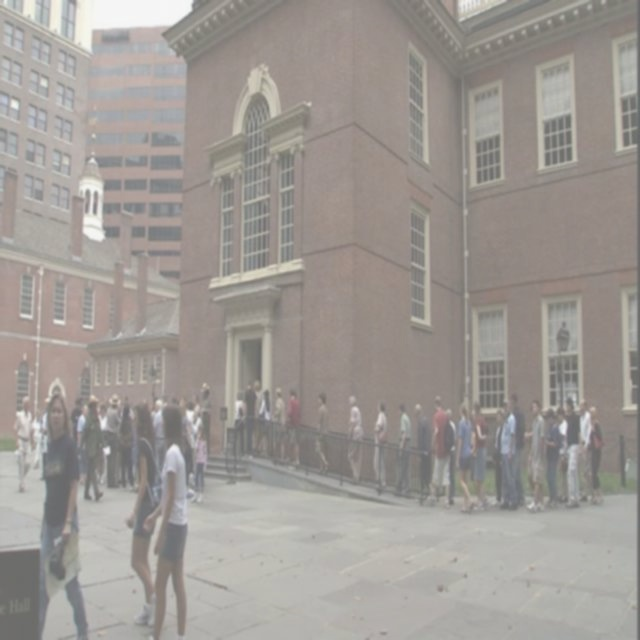pessoa: (38, 391, 91, 638), (141, 398, 189, 638), (122, 394, 164, 626), (76, 393, 108, 503), (428, 394, 454, 509), (539, 405, 562, 508), (12, 395, 36, 493), (412, 401, 435, 503), (526, 396, 546, 512), (562, 395, 582, 508), (498, 398, 518, 510), (456, 400, 475, 515), (585, 404, 606, 506), (522, 402, 542, 509), (472, 397, 490, 512), (577, 397, 595, 504), (509, 392, 526, 505), (392, 400, 411, 500), (344, 394, 364, 486), (105, 392, 121, 488), (491, 406, 506, 506), (372, 398, 388, 490), (118, 401, 134, 492), (556, 406, 570, 504), (314, 391, 330, 476), (192, 421, 208, 504), (152, 397, 168, 479), (270, 386, 286, 466), (242, 376, 257, 460), (286, 384, 300, 471), (198, 380, 214, 456), (76, 401, 90, 487), (445, 408, 457, 507), (38, 394, 51, 482), (95, 402, 108, 487), (190, 404, 202, 487), (232, 390, 246, 460), (178, 396, 196, 443), (252, 379, 262, 457), (31, 408, 43, 471), (162, 390, 194, 410), (470, 406, 478, 482), (280, 418, 292, 466), (70, 397, 82, 444), (256, 388, 272, 421), (188, 417, 195, 483), (146, 394, 160, 426), (120, 394, 134, 422), (132, 427, 138, 492), (190, 392, 203, 420), (114, 449, 123, 484), (117, 398, 123, 421), (98, 456, 102, 482), (77, 456, 81, 480), (95, 401, 101, 416), (125, 466, 130, 484), (94, 457, 98, 475)
